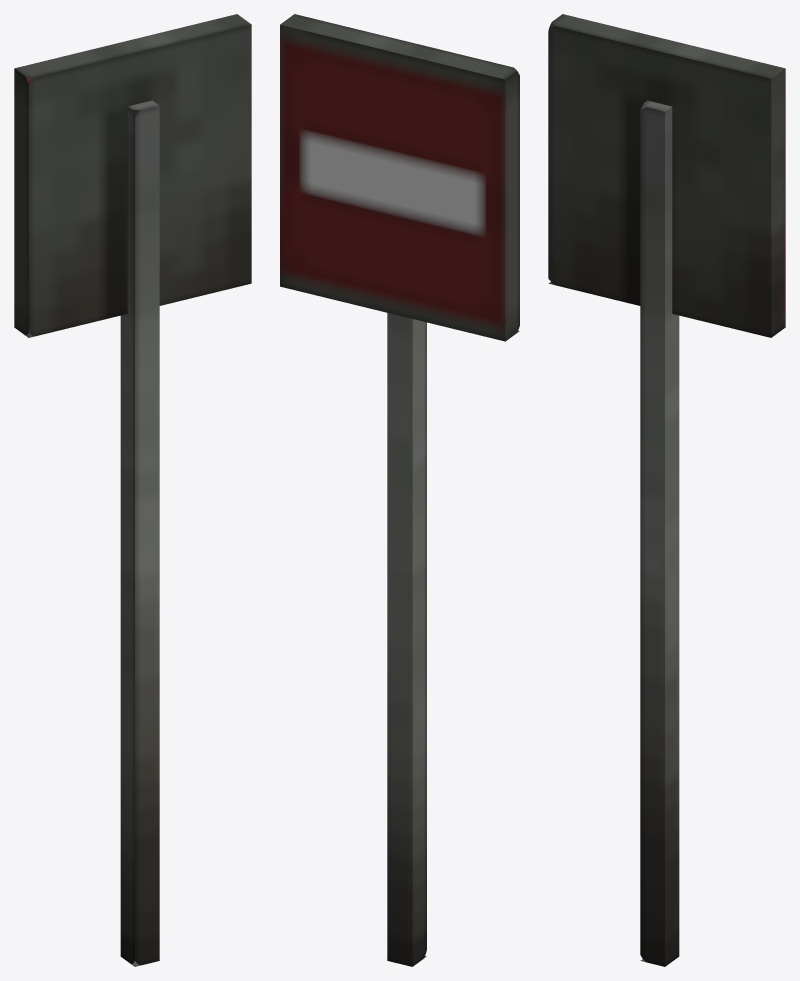
Rendered from roadsign_oneway.obj.
The picture shows the model from 3 angles, left to right: view 1: azimuth 30°, elevation 25°; view 2: azimuth 150°, elevation 25°; view 3: azimuth 330°, elevation 25°; orthographic projection.
Visible parts, largest first — view 1: ny, nx; view 2: ny, nx; view 3: ny, nx.
Part boxes in pixels (x1,y1,x2,y2): ny: [14, 14, 251, 337]; nx: [120, 100, 159, 966]; ny: [280, 14, 519, 341]; nx: [387, 313, 426, 966]; ny: [548, 14, 785, 337]; nx: [640, 100, 679, 966].
Size of the model in its own units: 0.5625 by 2.19 by 0.0938.
1 material, 1 textured.
